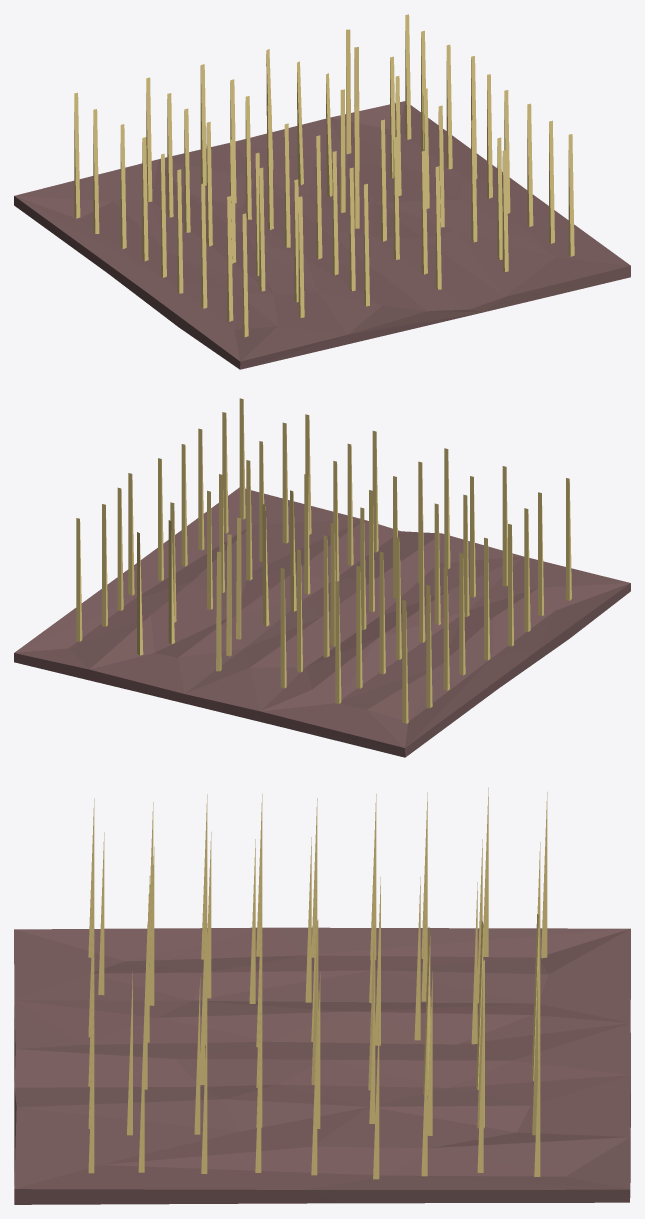
File: Farm.fbx
3 views of the same model, one above another, from view 1: azimuth 30°, elevation 25°; view 2: azimuth 150°, elevation 25°; view 3: azimuth 270°, elevation 25° (orthographic). The views are drawn at different scales.
Parts seen in each view (by area): view 1: Farm; view 2: Farm; view 3: Farm.
Boxes of the visible parts, <box> form: Farm: <box>14,14,630,369</box>; Farm: <box>14,398,630,757</box>; Farm: <box>14,787,630,1204</box>.
Bounding box in the file's own units: 2000 × 639 × 2001.
